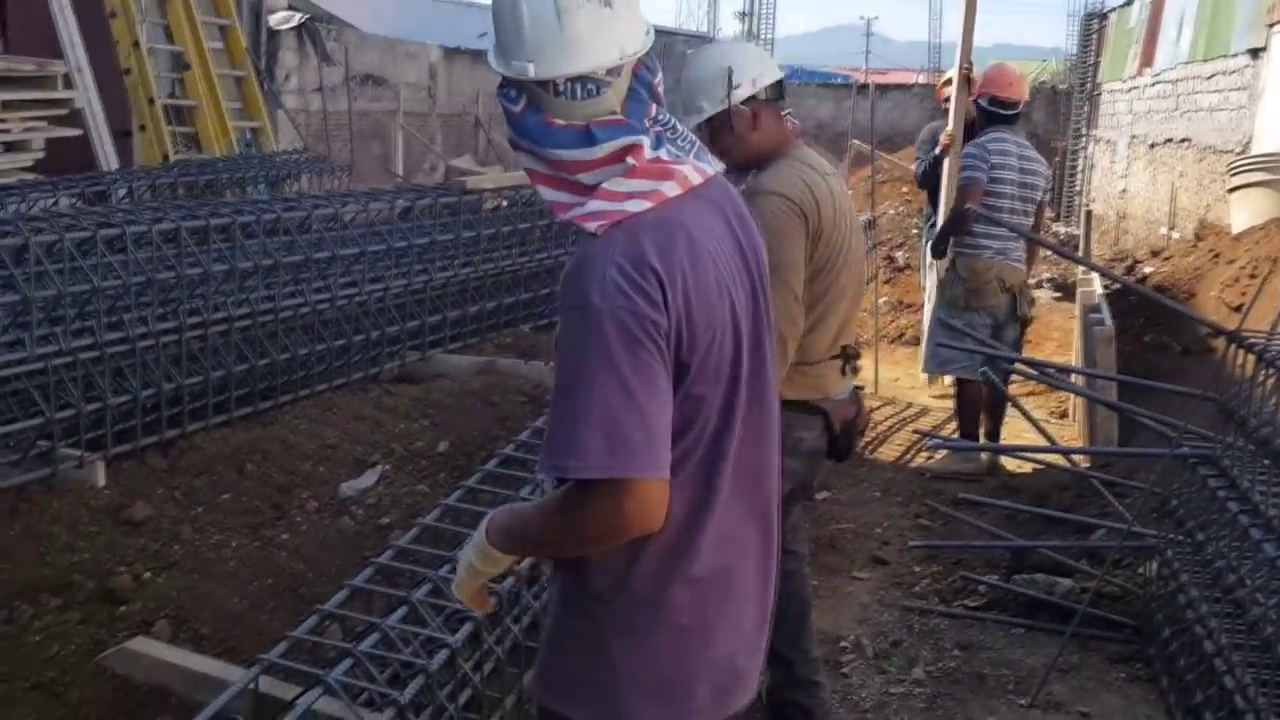helmet: (484, 2, 655, 82), (675, 42, 784, 132), (966, 60, 1031, 102), (936, 65, 956, 95)
helmet-on: (482, 0, 668, 183), (676, 34, 801, 172), (967, 59, 1032, 135), (935, 63, 957, 120)
person: (453, 0, 776, 716), (679, 26, 862, 714), (921, 59, 1053, 478), (916, 55, 964, 399)
